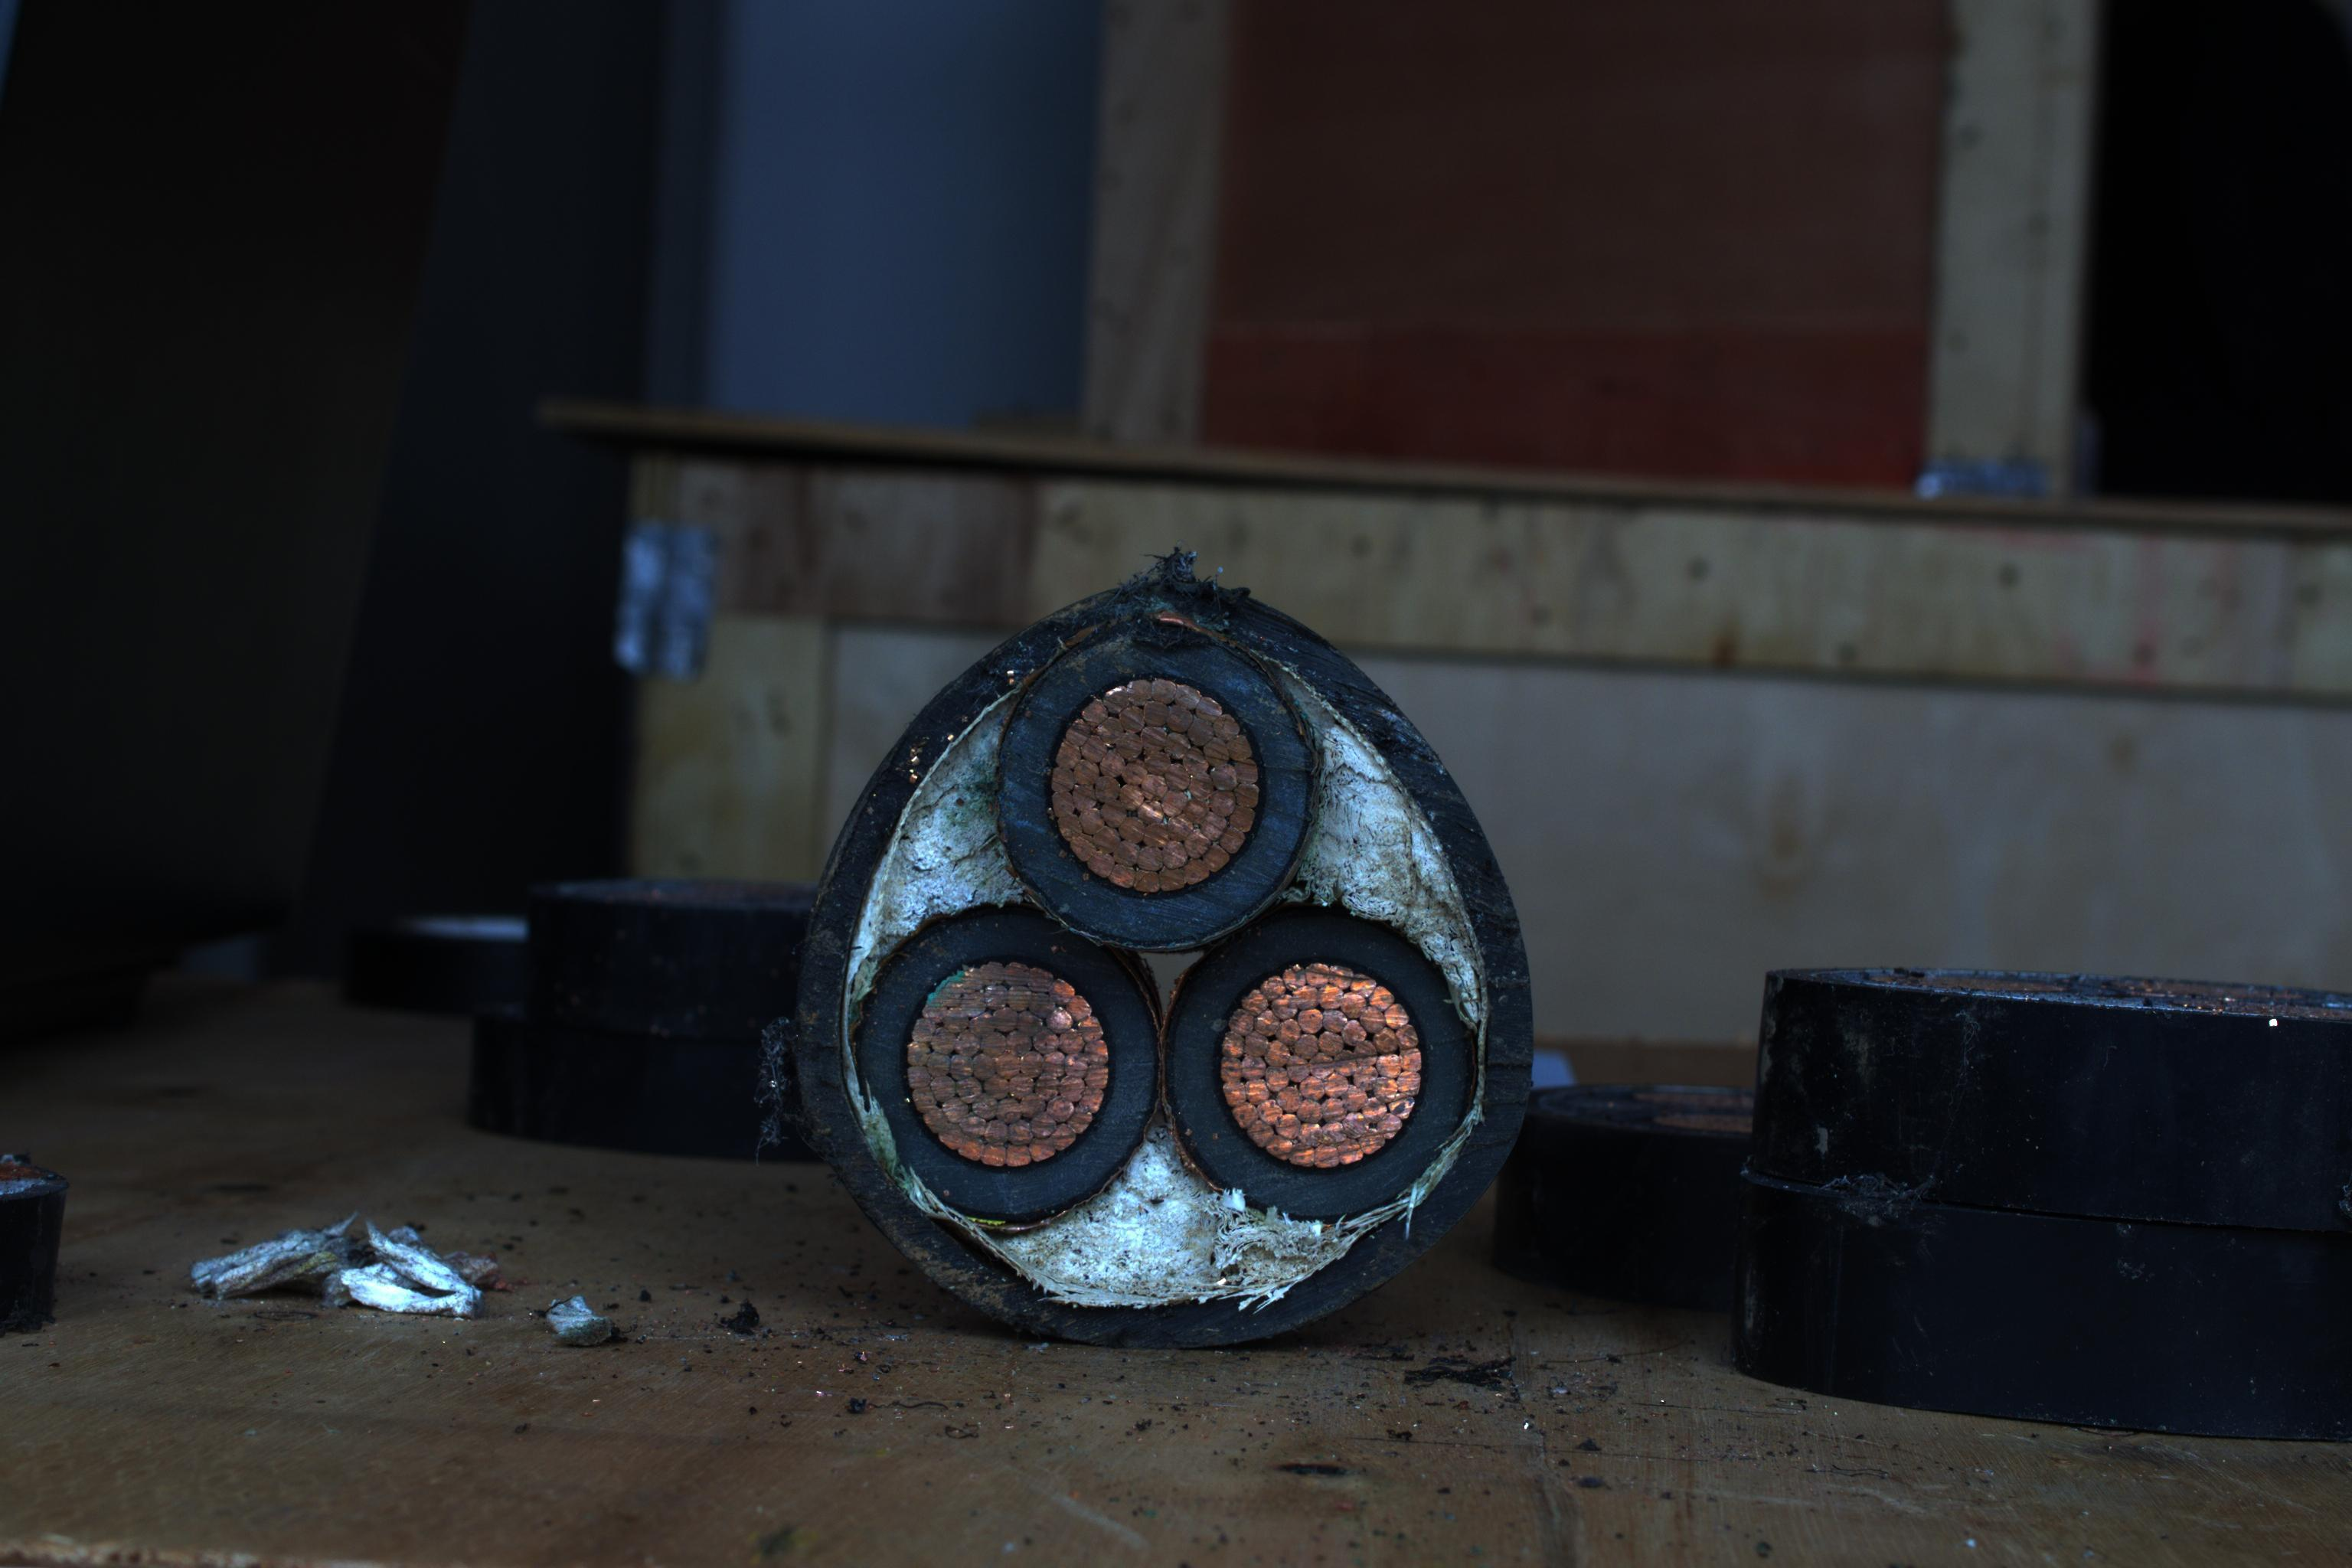ZA_YJV_8.7_10kV_3x400: (817, 600, 1526, 1326)
